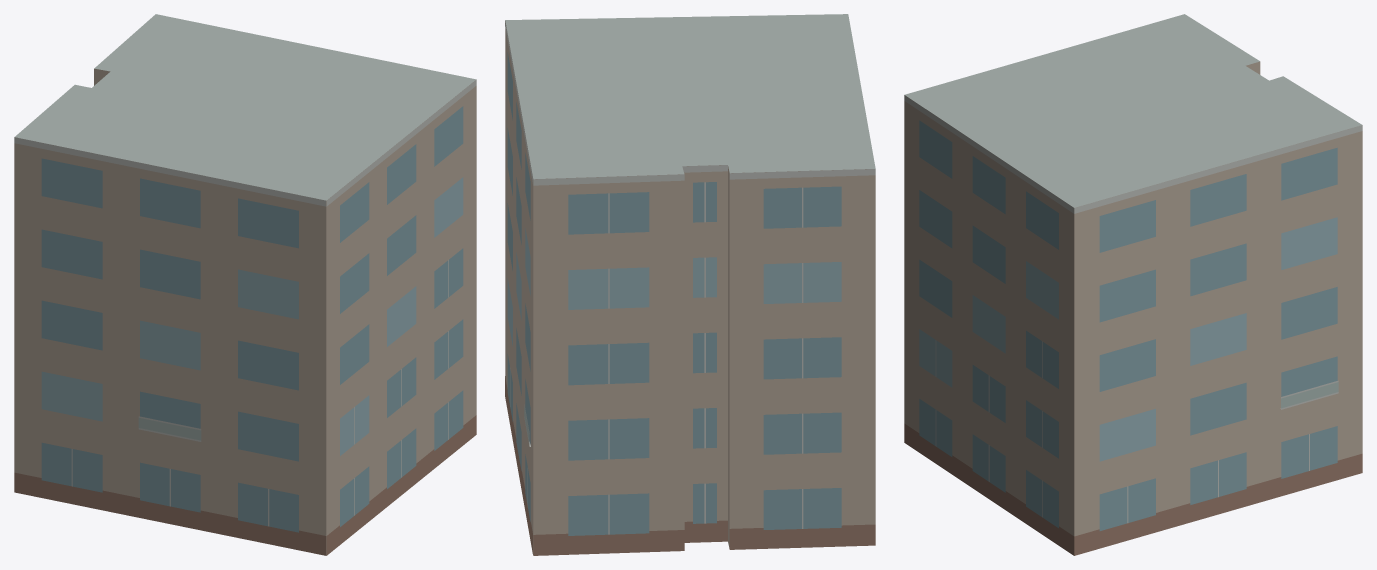
Rendered from survey-upis-32905496.glb.
The picture shows the model from 3 angles, left to right: view 1: azimuth 30°, elevation 25°; view 2: azimuth 150°, elevation 25°; view 3: azimuth 270°, elevation 25°; orthographic projection. The views are drawn at different scales.
Parts seen in each view (by area): view 1: survey-upis-32905496.tmp; view 2: survey-upis-32905496.tmp; view 3: survey-upis-32905496.tmp.
Boxes of the visible parts, x1,y1,x2,y2 form: survey-upis-32905496.tmp: (14, 14, 476, 555); survey-upis-32905496.tmp: (505, 14, 875, 555); survey-upis-32905496.tmp: (904, 14, 1362, 555).
Size of the model in its own units: 16.98 by 14.2 by 16.95.
